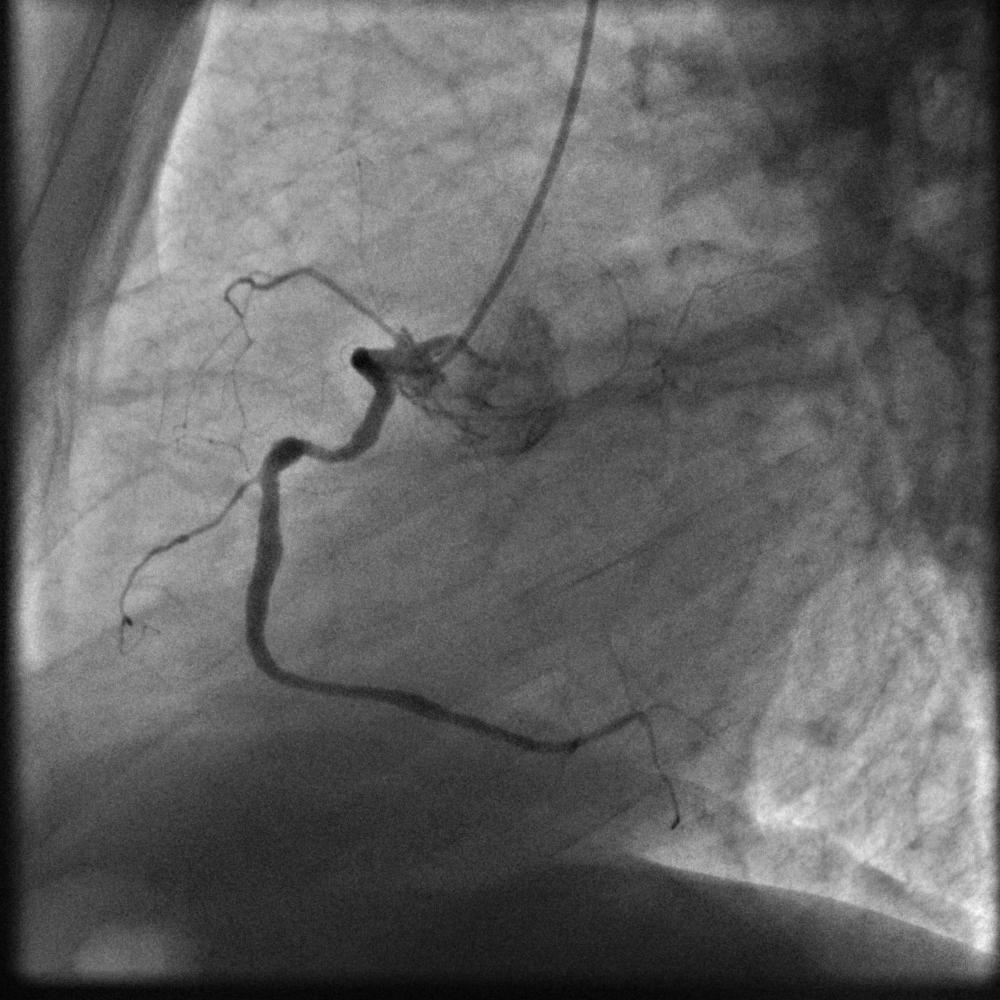Stenosis: (296, 434, 324, 466)
